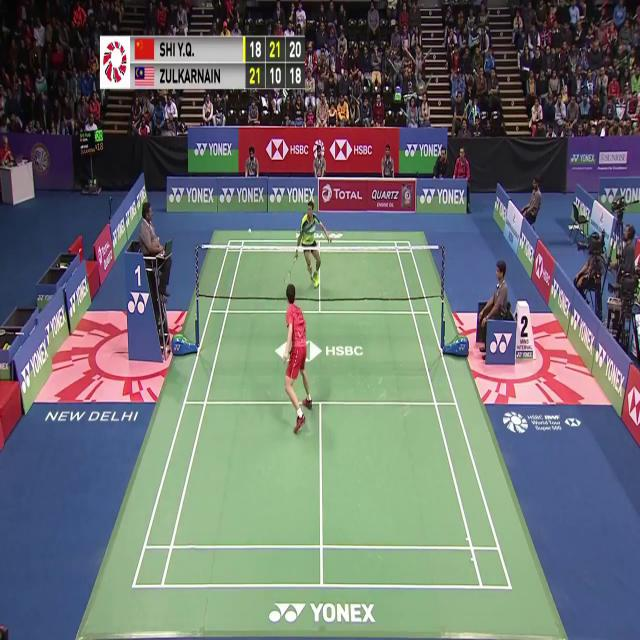Shuttlecock: (247, 224, 253, 236)
